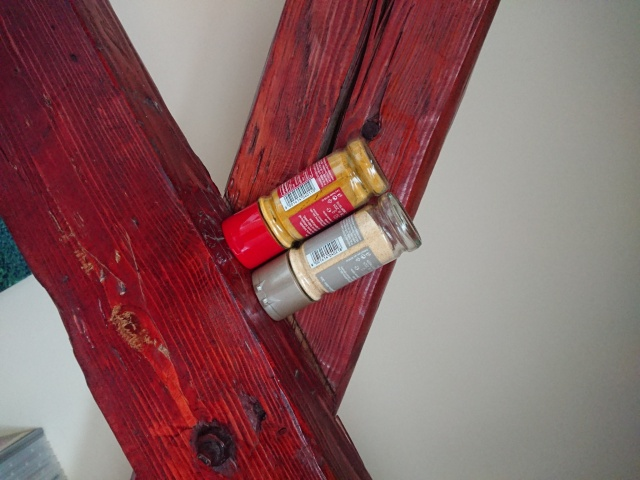Kotanyi Curry Spices Mix 70g: (217, 134, 391, 272)
Kotanyi Garlic Granules 70g: (248, 188, 424, 324)
